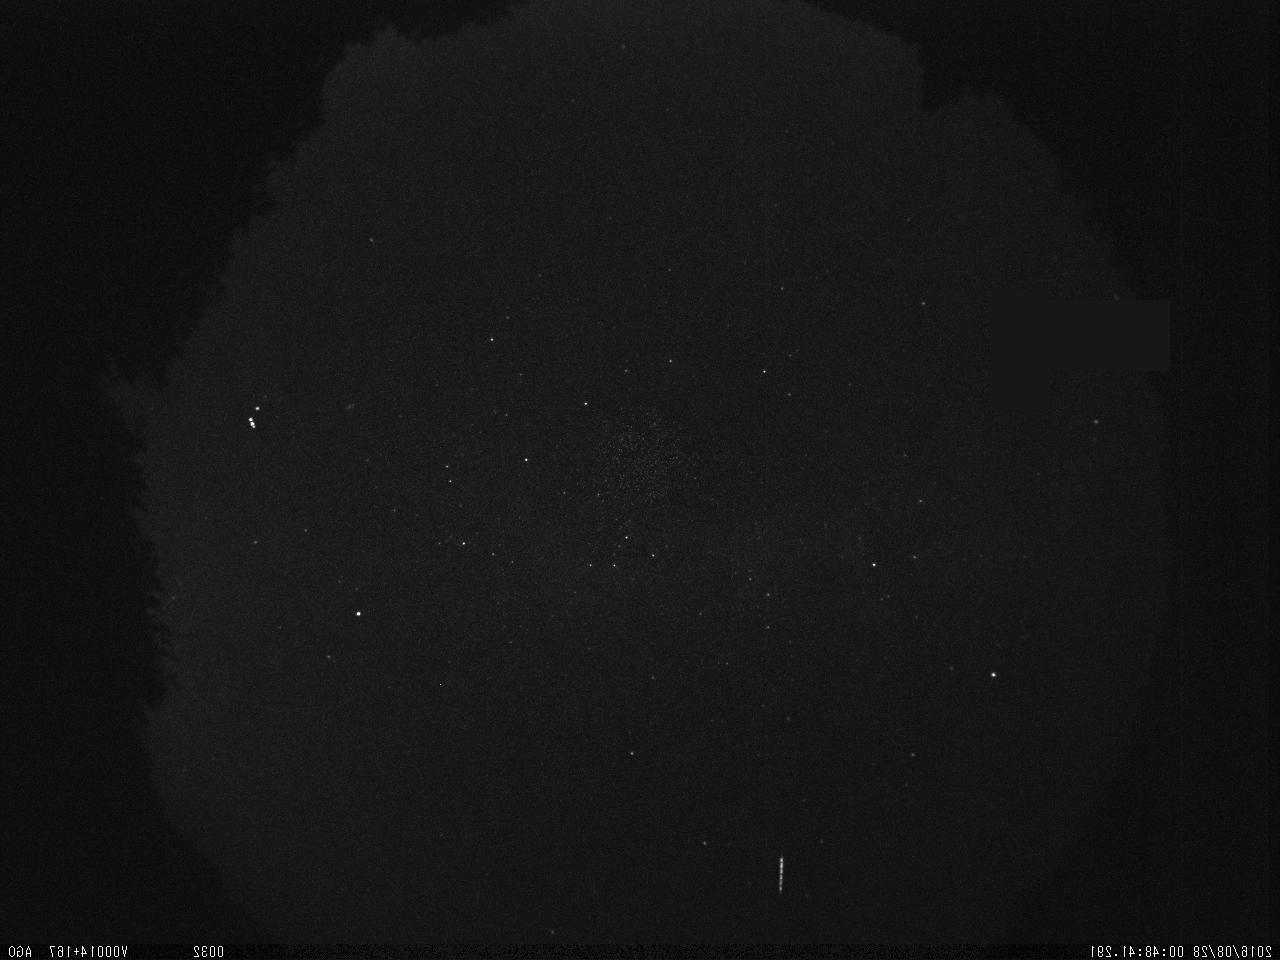meteor: (767, 853, 792, 897)
